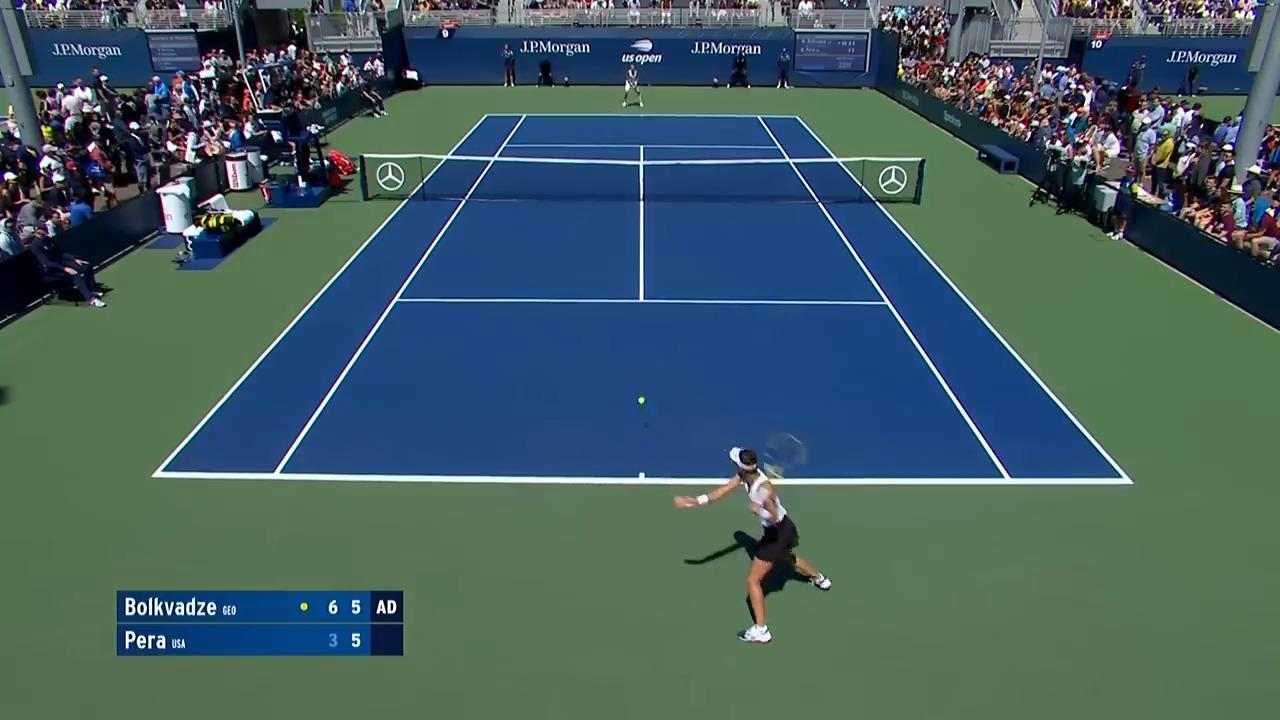tennis ball: (638, 397, 645, 405)
